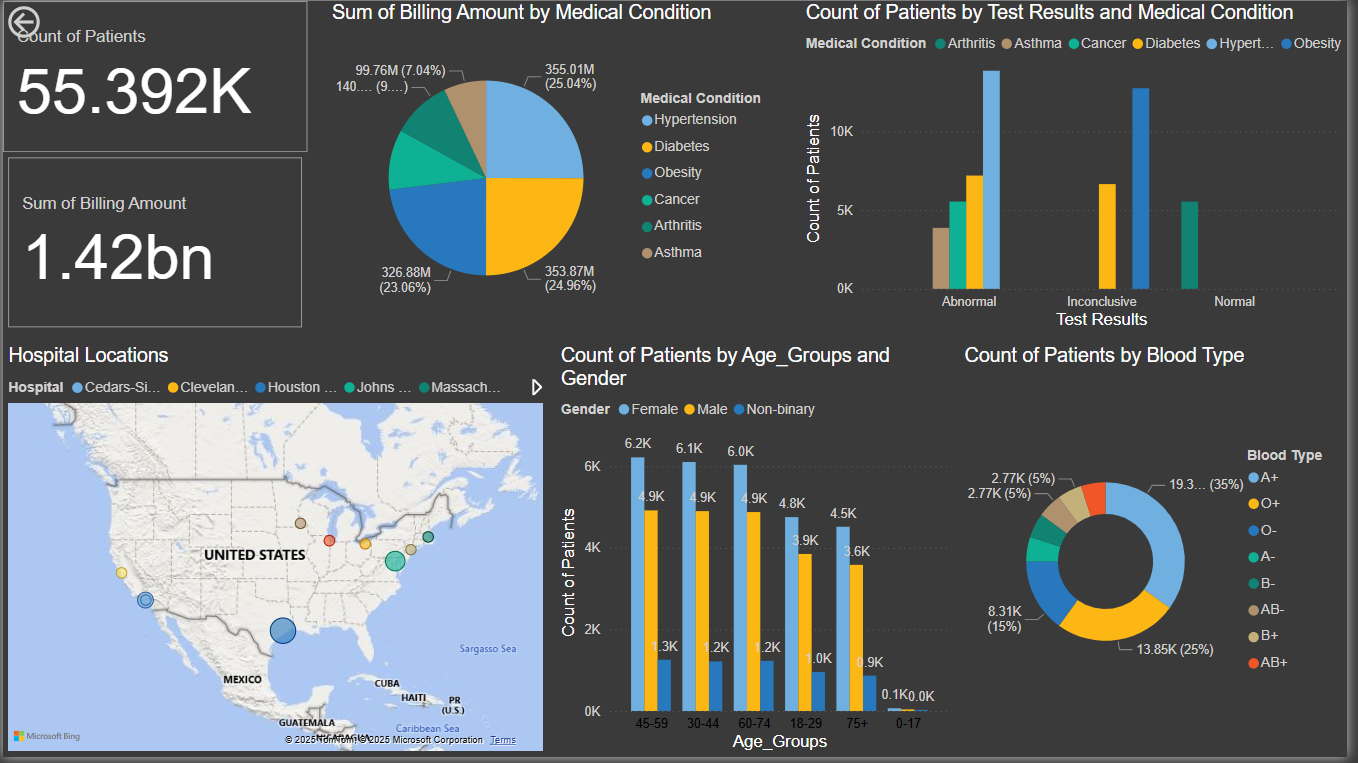

Layout of this report page (visuals, bound fields, positions):
{"tool":"powerbi","page":{"name":"Page 1","canvas":[1280,720],"ordinal":0},"visuals":[{"type":"clusteredColumnChart","title":"Count of Patients by Age_Groups and Gender","fields":{"Category":["Data.Age_Groups"],"Y":["CountNonNull(Data.Patient ID)"],"Series":["Data.Gender"]},"box":[525.8,327.7,380.3,391.3],"z":0},{"type":"cardVisual","fields":{"Data":["CountNonNull(Data.Patient ID)"]},"box":[0,0,290.9,144.1],"z":1000},{"type":"actionButton","box":[0,0,100,40],"z":2000},{"type":"donutChart","fields":{"Category":["Data.Blood Type"],"Y":["CountNonNull(Data.Patient ID)"]},"box":[911,327.7,368.1,392.5],"z":3000},{"type":"map","title":"Hospital Locations","fields":{"Y":["Data.Hospital Latitude"],"X":["Data.Hospital Longitude"],"Series":["Data.Hospital"],"Size":["CountNonNull(Data.Patient ID)"]},"box":[0,328,518.7,392.5],"z":4000},{"type":"pieChart","fields":{"Category":["Data.Medical Condition"],"Y":["Sum(Data.Billing Amount)"]},"box":[308.2,0,432.9,316.7],"z":5000},{"type":"clusteredColumnChart","fields":{"Category":["Data.Test Results"],"Y":["CountNonNull(Data.Patient ID)"],"Series":["Data.Medical Condition"]},"box":[759.4,0,519.7,316.7],"z":6000},{"type":"cardVisual","fields":{"Data":["Sum(Data.Billing Amount)"]},"box":[0,144.1,290.9,172.9],"z":6001}]}

Visuals, with their boxes in screenshot pixels (x1, y1, x2, y2), scaled from the page's 1280x720 canvas onto the 1358x763 screenshot:
"Count of Patients by Age_Groups and Gender" clusteredColumnChart: locate(558, 347, 961, 762)
cardVisual - CountNonNull(Data.Patient ID): locate(0, 0, 309, 153)
actionButton: locate(0, 0, 106, 42)
donutChart - Data.Blood Type x CountNonNull(Data.Patient ID): locate(967, 347, 1357, 762)
"Hospital Locations" map: locate(0, 348, 550, 762)
pieChart - Data.Medical Condition x Sum(Data.Billing Amount): locate(327, 0, 786, 336)
clusteredColumnChart - Data.Test Results x CountNonNull(Data.Patient ID): locate(806, 0, 1357, 336)
cardVisual - Sum(Data.Billing Amount): locate(0, 153, 309, 336)
